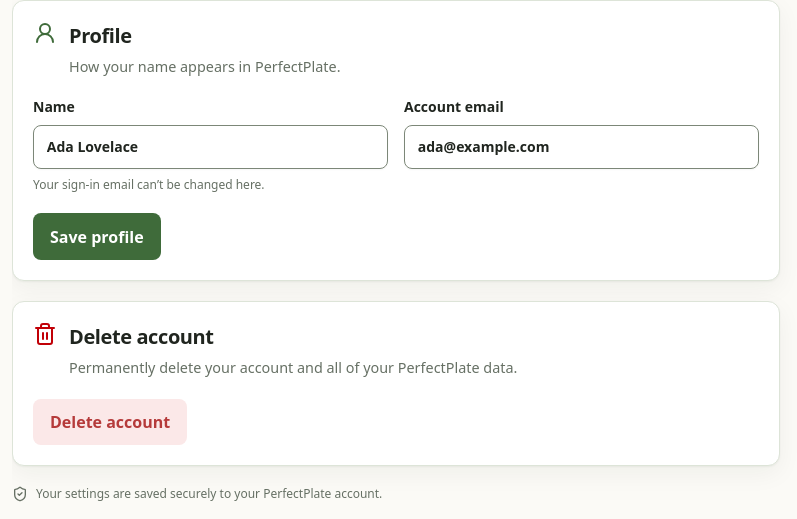
Test: SettingsPanel › loads the signed-in profile and saves a normalized name
Expected: the field labelled "Account email" holds "ada@example.com", [404, 125, 759, 169]
Replace the text in the field labelled "Name" with "  Ada Byron  ": (210, 147) [33, 125, 388, 169]
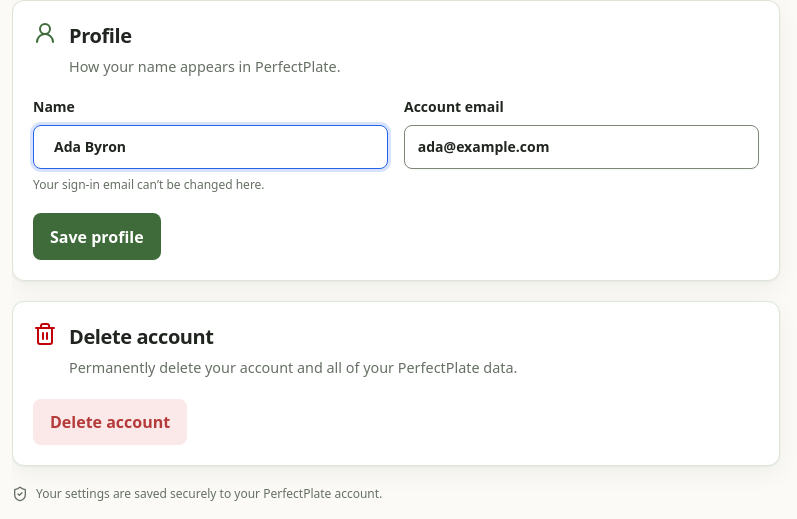
Click the button "Save profile": (97, 237) [33, 213, 161, 260]
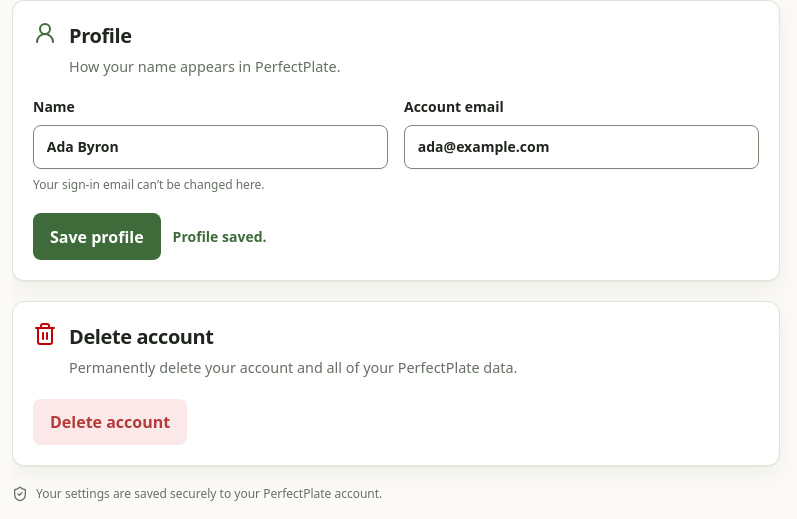
Now the text "Profile saved." is shown, box [173, 227, 266, 247]
